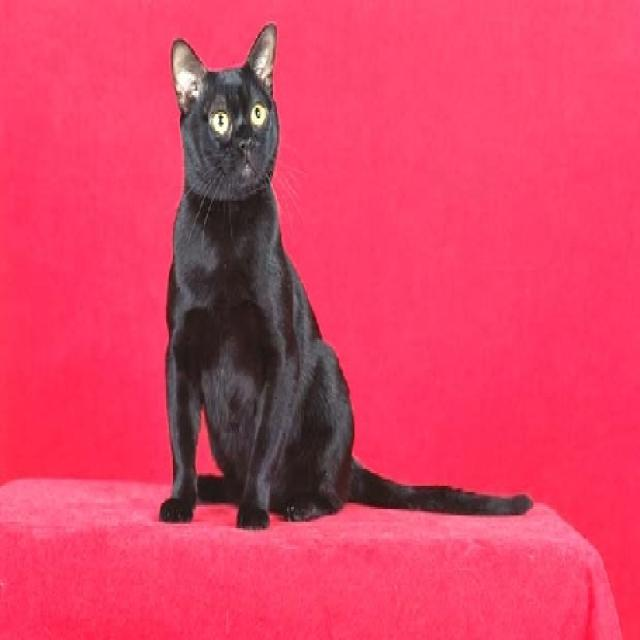cat: (170, 21, 276, 188)
